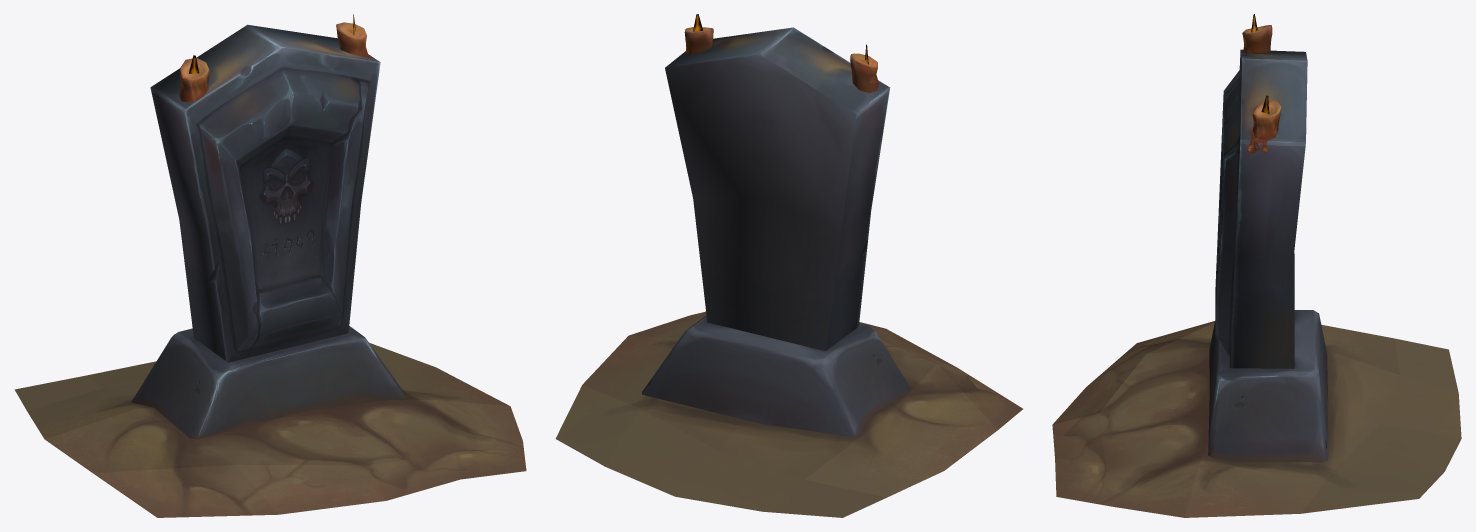
The model's file is TombstoneCandles.fbx.
3 views of the same model, side by side, from view 1: azimuth 30°, elevation 25°; view 2: azimuth 150°, elevation 25°; view 3: azimuth 270°, elevation 25° (orthographic). The views are drawn at different scales.
Visible parts, largest first — view 1: Grave, Ground; view 2: Grave, Ground; view 3: Ground, Grave.
Part boxes in pixels (<box>): Grave: <box>131,22,407,439</box>; Ground: <box>14,342,526,517</box>; Grave: <box>641,27,911,437</box>; Ground: <box>555,311,1022,517</box>; Ground: <box>1052,321,1461,517</box>; Grave: <box>1208,25,1328,462</box>.
Bounding box in the file's own units: 3.12 × 3.03 × 2.92.
3 materials, 3 textured.
